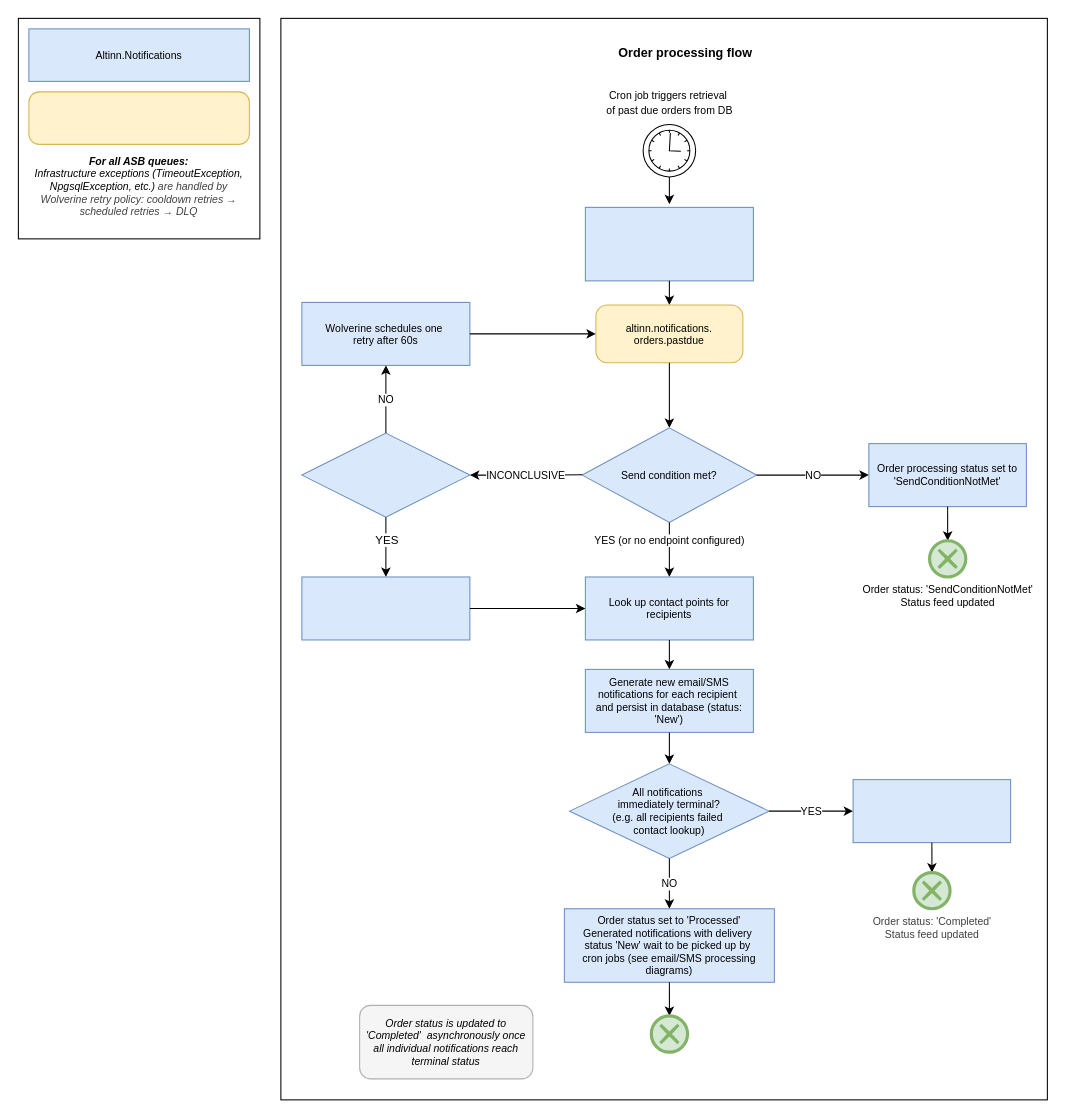
This 1066x1118 diagram has some shape labels left out. The centre of each missing label's shape, as x and y in pixels:
"Azure Service Bus queue" goes at [138,117].
"Is retry?" goes at [385,474].
"Order processing status set to 'Completed'" goes at [931,811].
"Order processing status set to 'Processing' in DB & order published to ASB queue" goes at [668,243].
"Order status: 'Processed' No status feed update" goes at [669,1033].
"Treat send condition as met and proceed" goes at [385,608].
